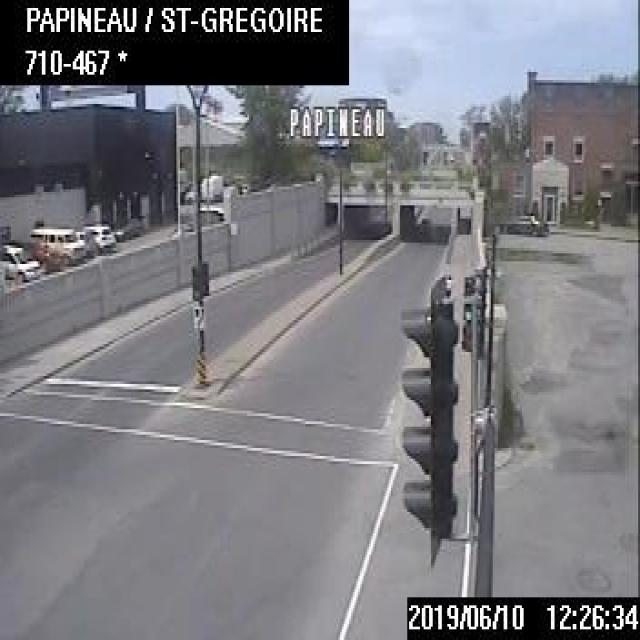vehicle: (28, 224, 88, 265), (0, 244, 38, 281), (496, 209, 547, 234), (84, 220, 119, 254)
